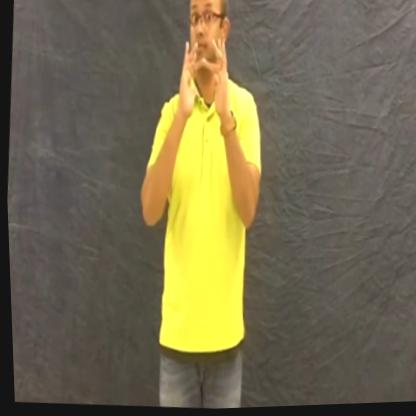Internet: (173, 35, 237, 133)
